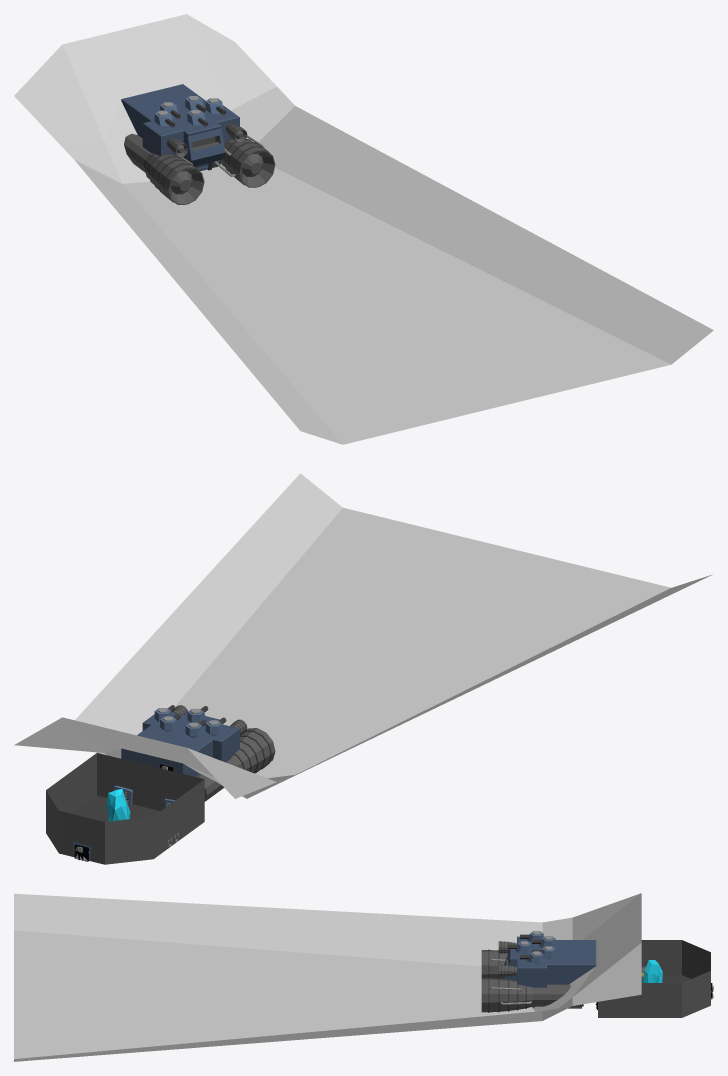
The model's file is scene_draft_1.fbx.
3 views of the same model, one above another, from view 1: azimuth 30°, elevation 25°; view 2: azimuth 150°, elevation 25°; view 3: azimuth 270°, elevation 25° (orthographic). The views are drawn at different scales.
Visible parts, largest first — view 1: Ground, Cylinder.005, Cube; view 2: Ground, Plane.001, Cube, Cylinder.005, Crystal; view 3: Ground, Plane.001, Cylinder.005, Cube, Crystal.
Boxes of the visible parts, left/top/right/bottom form: Ground: left=14, top=14, right=713, bottom=444; Cylinder.005: left=124, top=123, right=275, bottom=204; Cube: left=121, top=84, right=239, bottom=166; Ground: left=14, top=473, right=712, bottom=798; Plane.001: left=46, top=753, right=204, bottom=864; Cube: left=121, top=712, right=239, bottom=776; Cylinder.005: left=172, top=705, right=275, bottom=801; Crystal: left=106, top=789, right=130, bottom=821; Ground: left=14, top=893, right=641, bottom=1061; Plane.001: left=598, top=940, right=710, bottom=1017; Cylinder.005: left=481, top=941, right=583, bottom=1012; Cube: left=504, top=936, right=596, bottom=987; Crystal: left=642, top=960, right=662, bottom=982.
Size of the model in its own units: 32483 by 7999 by 58074.
